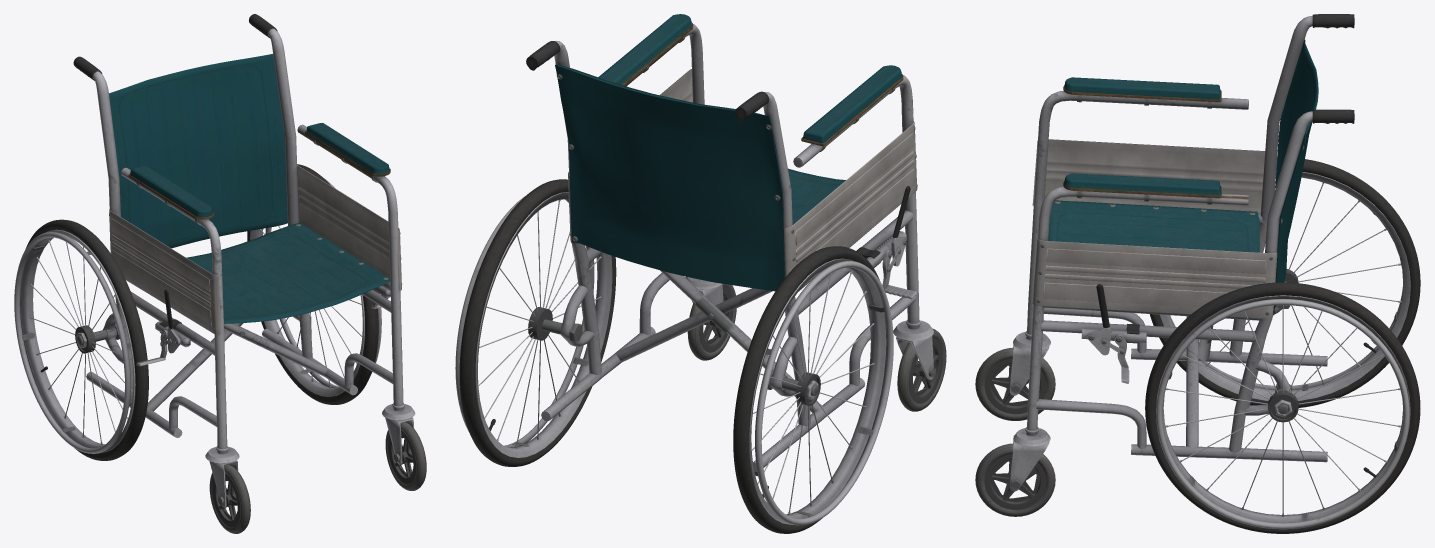
File: wheelchair_01_1k.glb
The picture shows the model from 3 angles, left to right: view 1: azimuth 30°, elevation 25°; view 2: azimuth 150°, elevation 25°; view 3: azimuth 270°, elevation 25°; orthographic projection. The views are drawn at different scales.
Visible parts, largest first — view 1: wheelchair_01; view 2: wheelchair_01; view 3: wheelchair_01.
Boxes of the visible parts, x1,y1,x2,y2 form: wheelchair_01: (14,14,426,533); wheelchair_01: (455,14,946,533); wheelchair_01: (975,14,1420,533).
Bounding box in the file's own units: 0.8241 × 1.1 × 1.09.
Materials: 1 (1 with a texture image).
